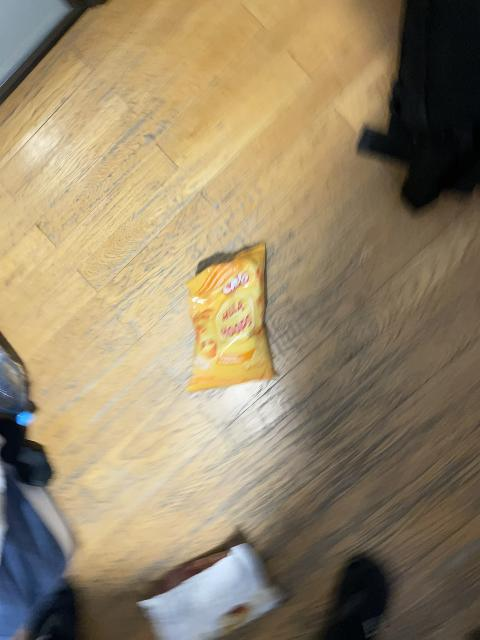Chio Hula Hoops Cheese 70g: (184, 244, 275, 391)
Lays Beef Grilled Ribs 125g: (131, 535, 292, 640)
